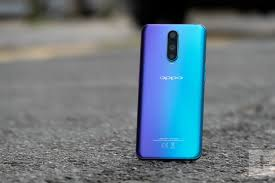oppo: (134, 19, 205, 164)
